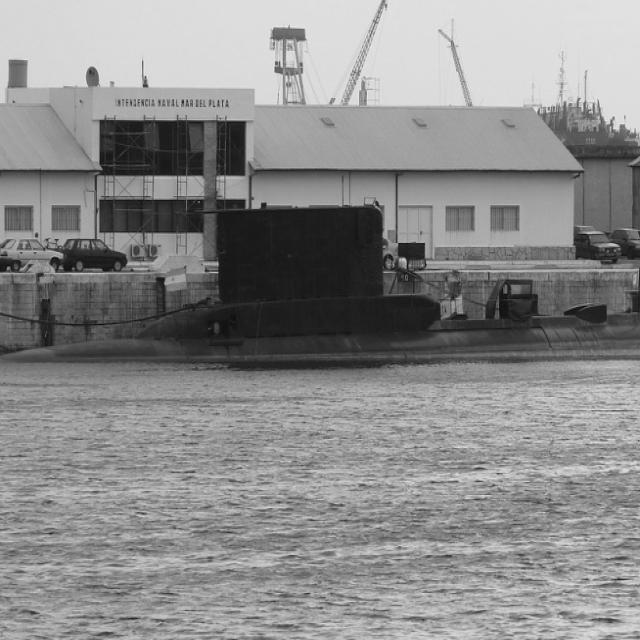submarine: (1, 197, 640, 371)
